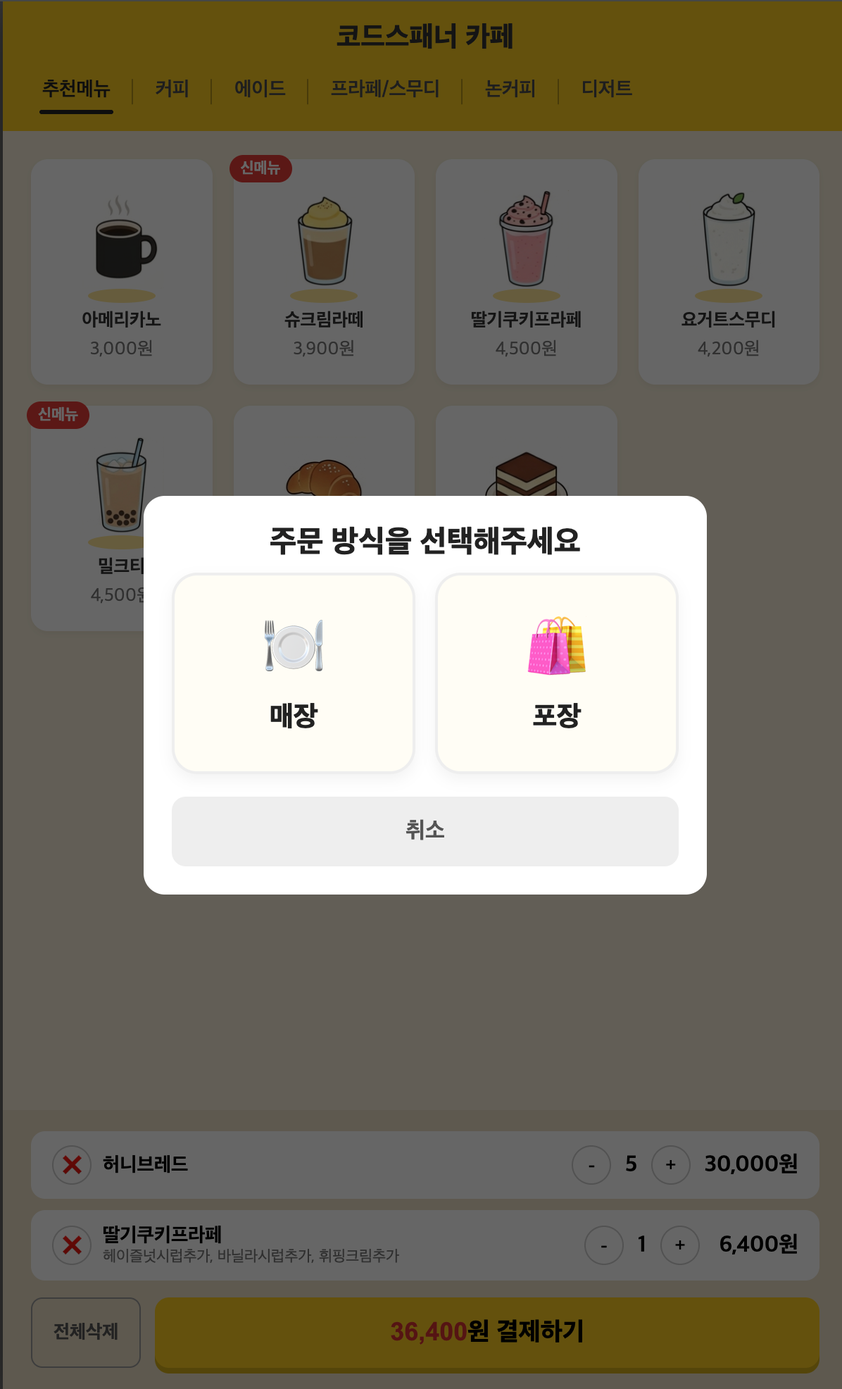option_button: (172, 573, 416, 774), (434, 575, 678, 776), (171, 796, 679, 867)
popup_modal: (143, 496, 707, 895)
